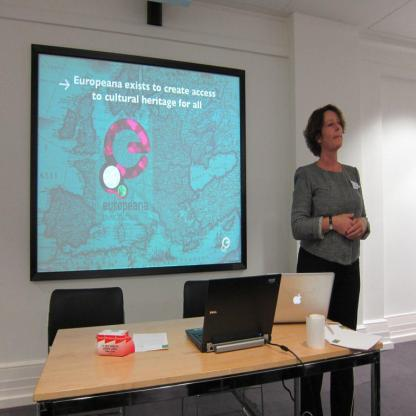board: (186, 274, 284, 352), (268, 273, 334, 323)
